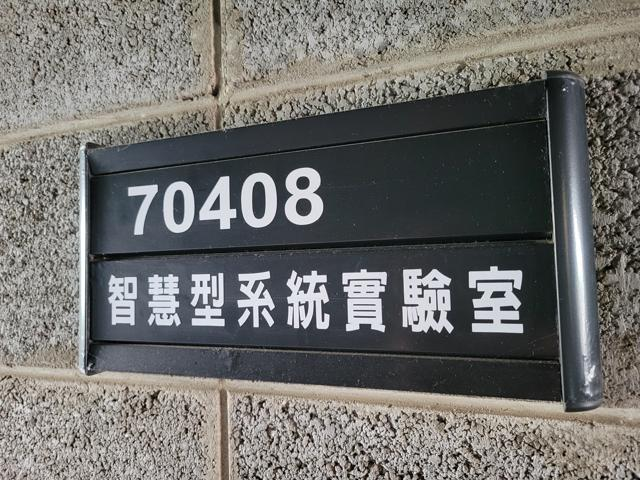doorplate: (67, 67, 609, 420)
